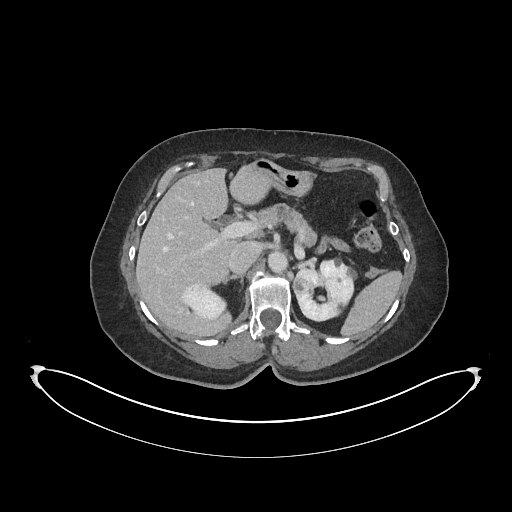Lesion: (294, 274, 310, 293)
